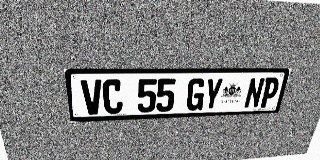5: (156, 78, 176, 112), (138, 79, 157, 113)
C: (102, 79, 123, 114)
G: (186, 78, 206, 111)
N: (243, 77, 265, 108)
P: (259, 77, 281, 108)
V: (80, 79, 103, 115)
Y: (202, 78, 224, 110)
